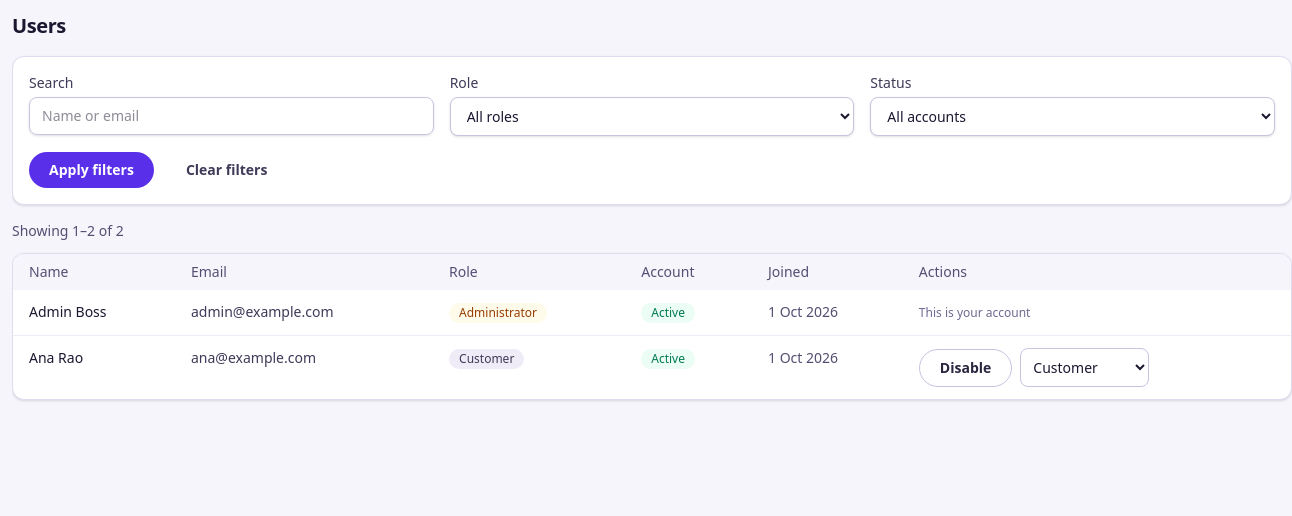
Test: AdminUsersPage › changes a role only after a second, explicit confirmation
The width and height of the screenshot is (1292, 516).
Select "Organizer" in the dropdown named "Role for Ana Rao" at (1085, 368), box [1020,348,1149,387]
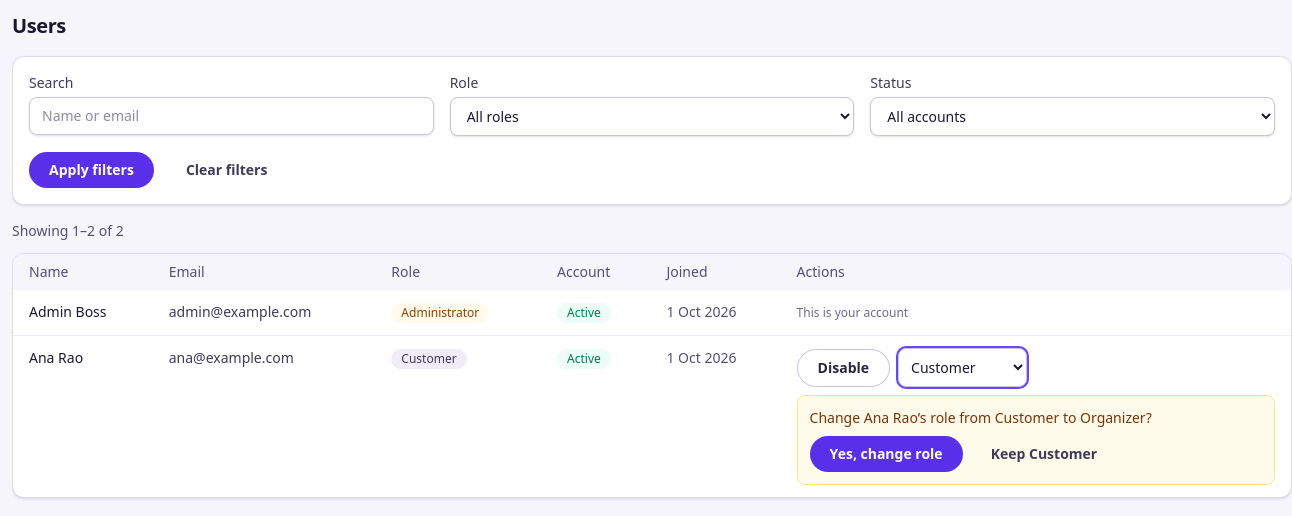
expect the text "Change Ana Rao’s role from Customer to Organizer?" is shown: met, box [810,408,1152,427]
Click the button "Yes, change role" at (886, 454), box [810,436,963,472]
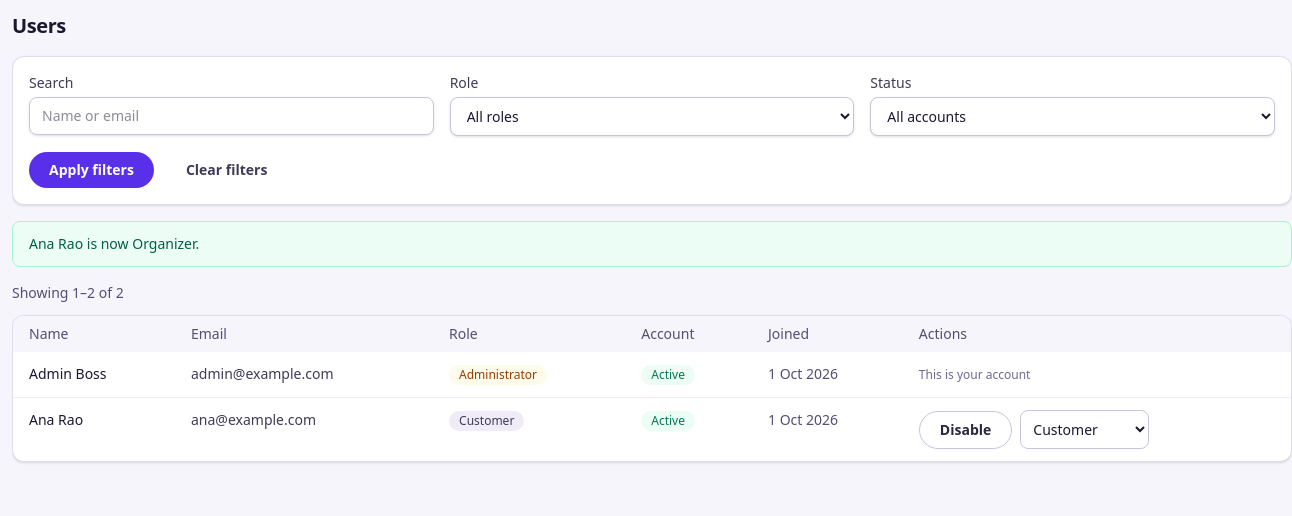
expect the text "Ana Rao is now Organizer." is shown: met, box [12,221,1291,267]
